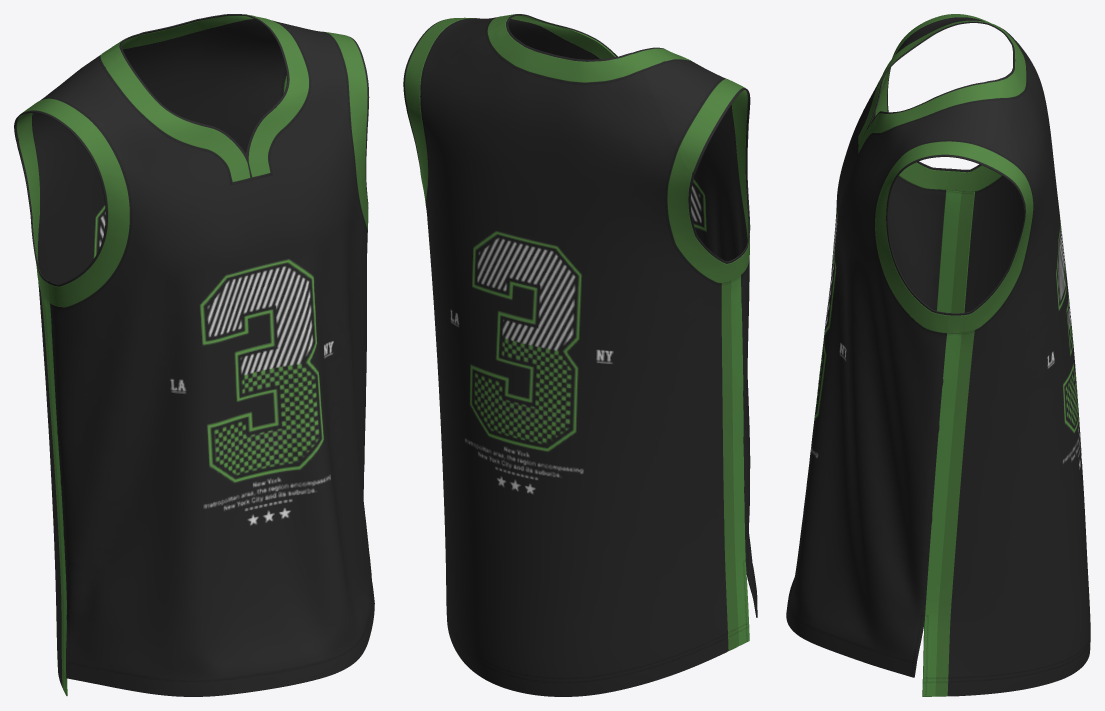
Rendered from black_green_basketball_pack.glb.
The picture shows the model from 3 angles, left to right: view 1: azimuth 30°, elevation 25°; view 2: azimuth 150°, elevation 25°; view 3: azimuth 270°, elevation 25°; orthographic projection. The views are drawn at different scales.
Visible parts, largest first — view 1: Object_3, Object_6, Object_2, Object_5, Object_4; view 2: Object_6, Object_3, Object_4, Object_2, Object_5; view 3: Object_3, Object_6, Object_2, Object_5, Object_4.
Boxes of the visible parts, x1,y1,x2,y2 form: Object_3: (40, 15, 372, 679); Object_6: (32, 19, 286, 686); Object_2: (16, 15, 368, 307); Object_5: (14, 36, 374, 696); Object_4: (17, 14, 286, 695); Object_6: (420, 32, 728, 696); Object_3: (420, 14, 754, 602); Object_4: (406, 22, 749, 645); Object_2: (405, 14, 750, 274); Object_5: (403, 20, 757, 650); Object_3: (788, 17, 1026, 661); Object_6: (947, 28, 1090, 696); Object_2: (858, 14, 1027, 696); Object_5: (786, 21, 1025, 696); Object_4: (936, 22, 1033, 333).
Size of the model in its own units: 401 by 770 by 355.
1 material, 1 textured.
